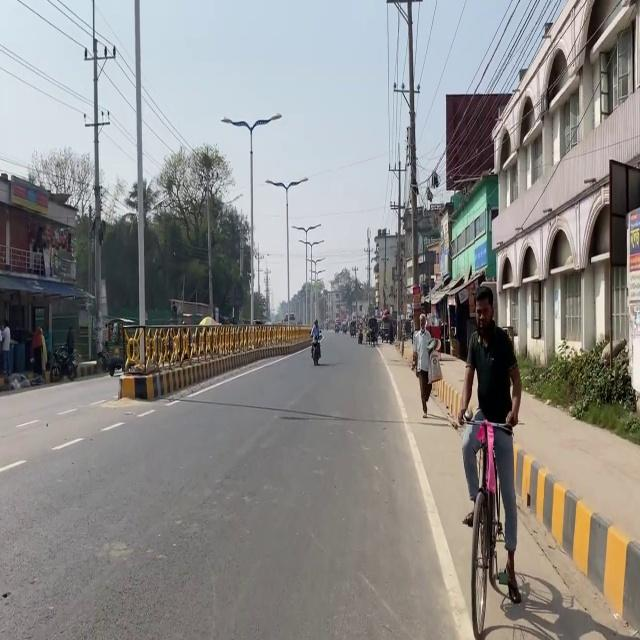Construction-barrier: (373, 339, 475, 638)
Fallen-tree: (49, 344, 77, 381), (97, 346, 124, 376)
Garbage: (117, 372, 161, 400)
Garbage-bin: (456, 285, 522, 602), (410, 313, 442, 418), (309, 319, 323, 360)
Pole: (103, 315, 263, 422)
Pothole: (375, 335, 639, 638)
Traffic-cone: (101, 317, 137, 376)
